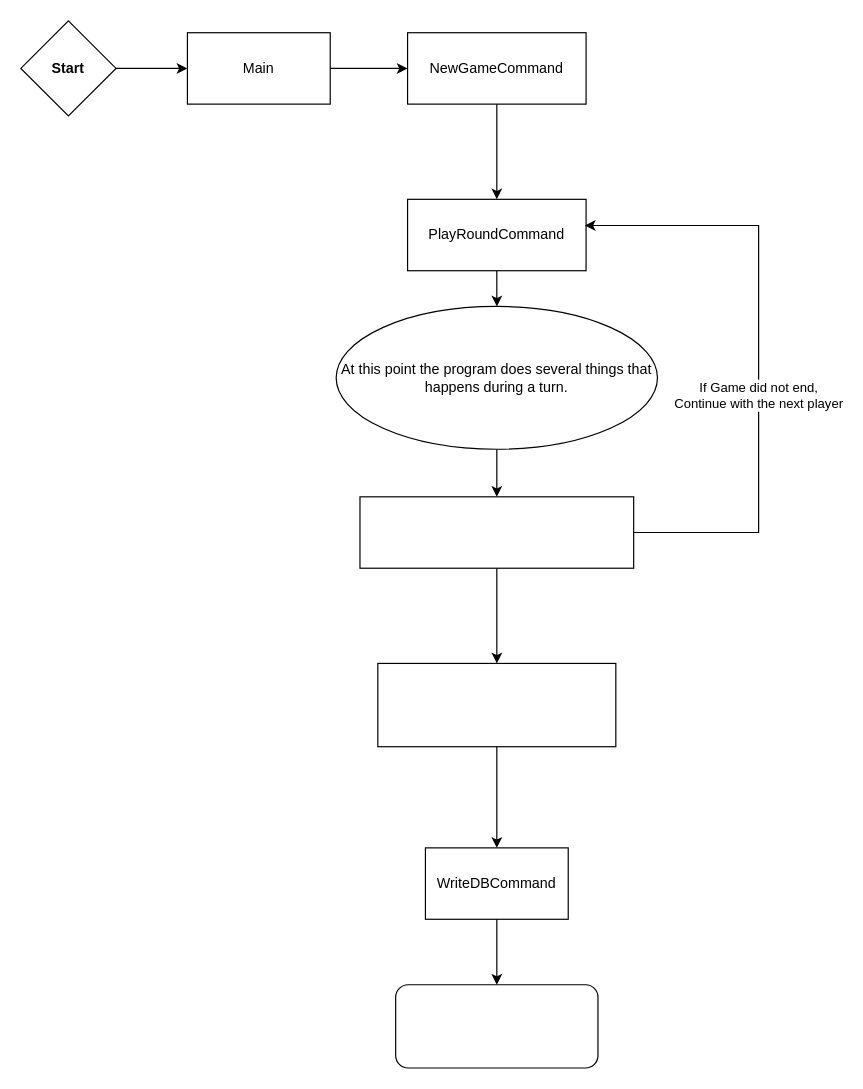
This 863x1089 diagram has some shape labels left out. The shapes that lost their labels are listed below. From the top down, each one's box as (x1, y1, x2, y2) in pixels, then its label:
(359, 496, 634, 568): CheckEndTurnCommand
(377, 662, 616, 747): CalculatePowerCommand
(394, 984, 598, 1068): EndGameCommand
